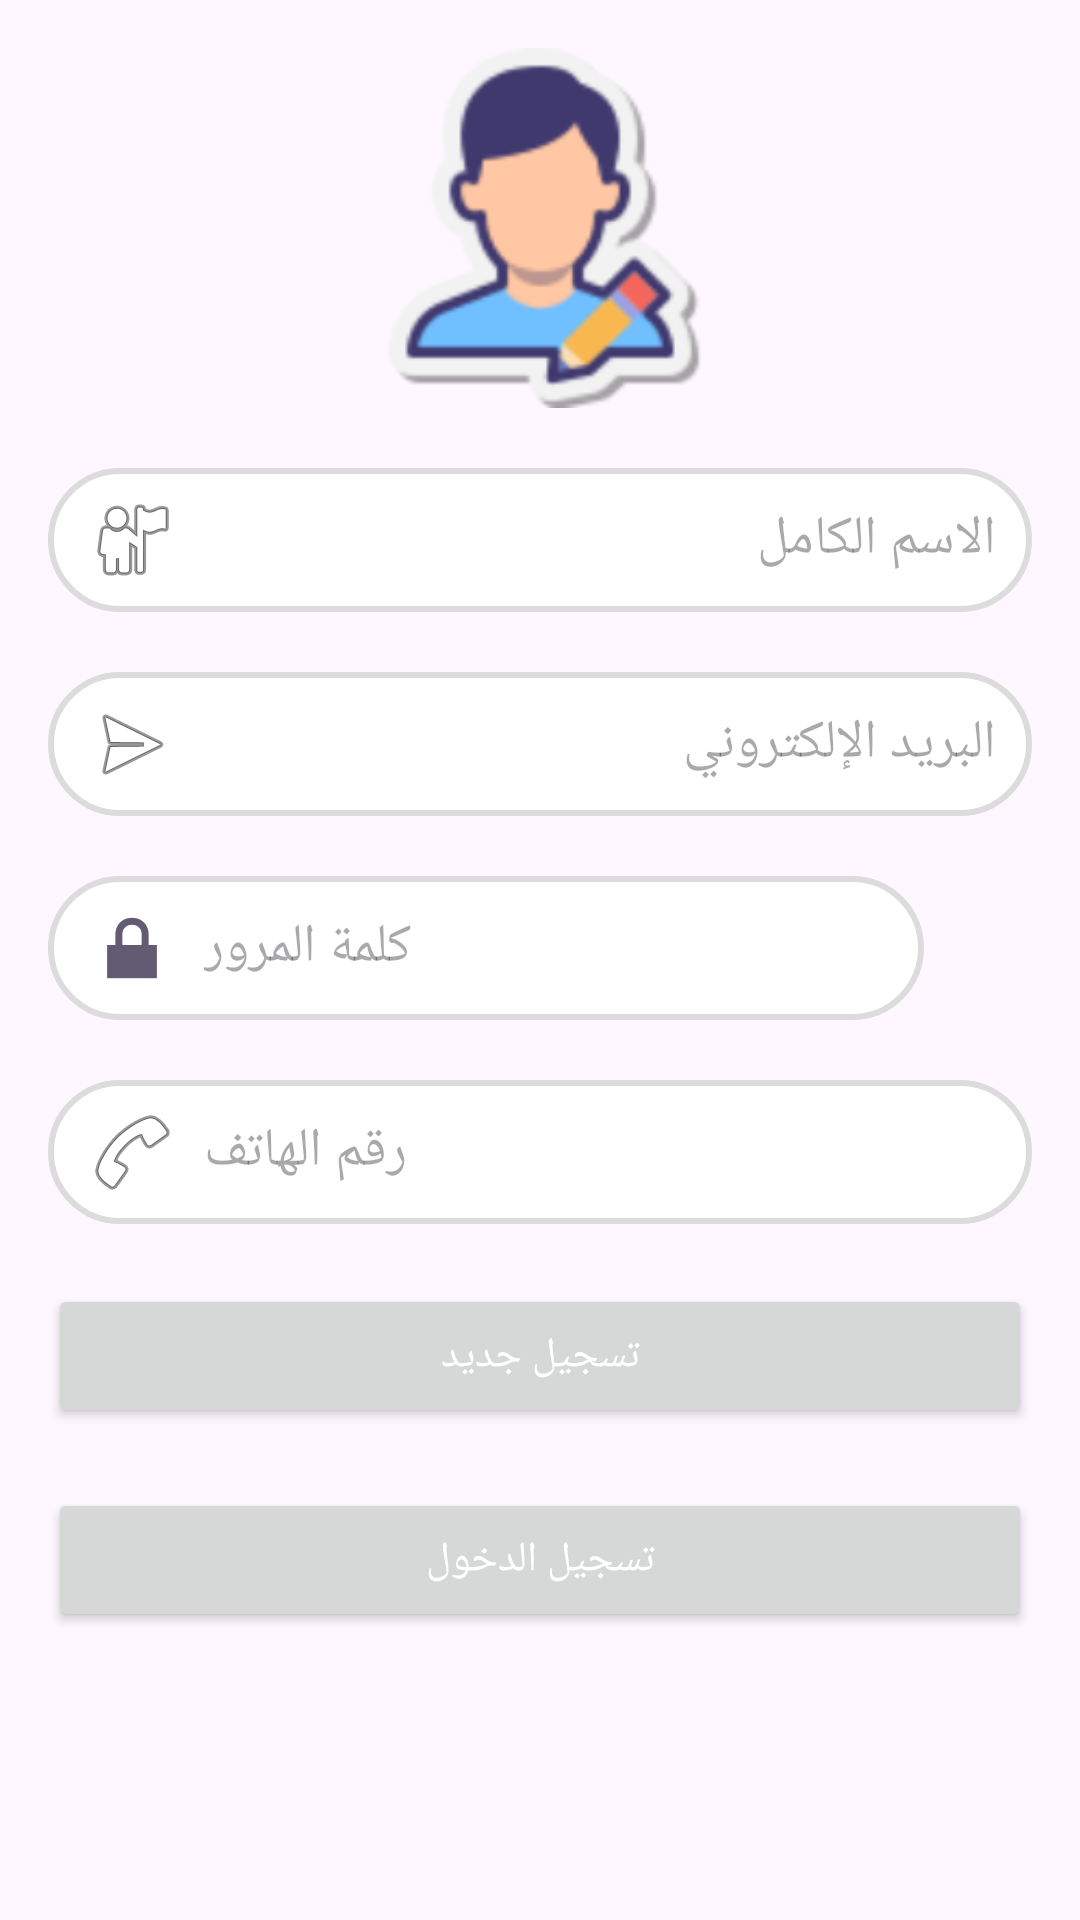

Screen size 1080 x 1920. Icon name, then its box in pixels as (x1, y1, x2, y2):
Profile Image: (400, 65, 699, 408)
